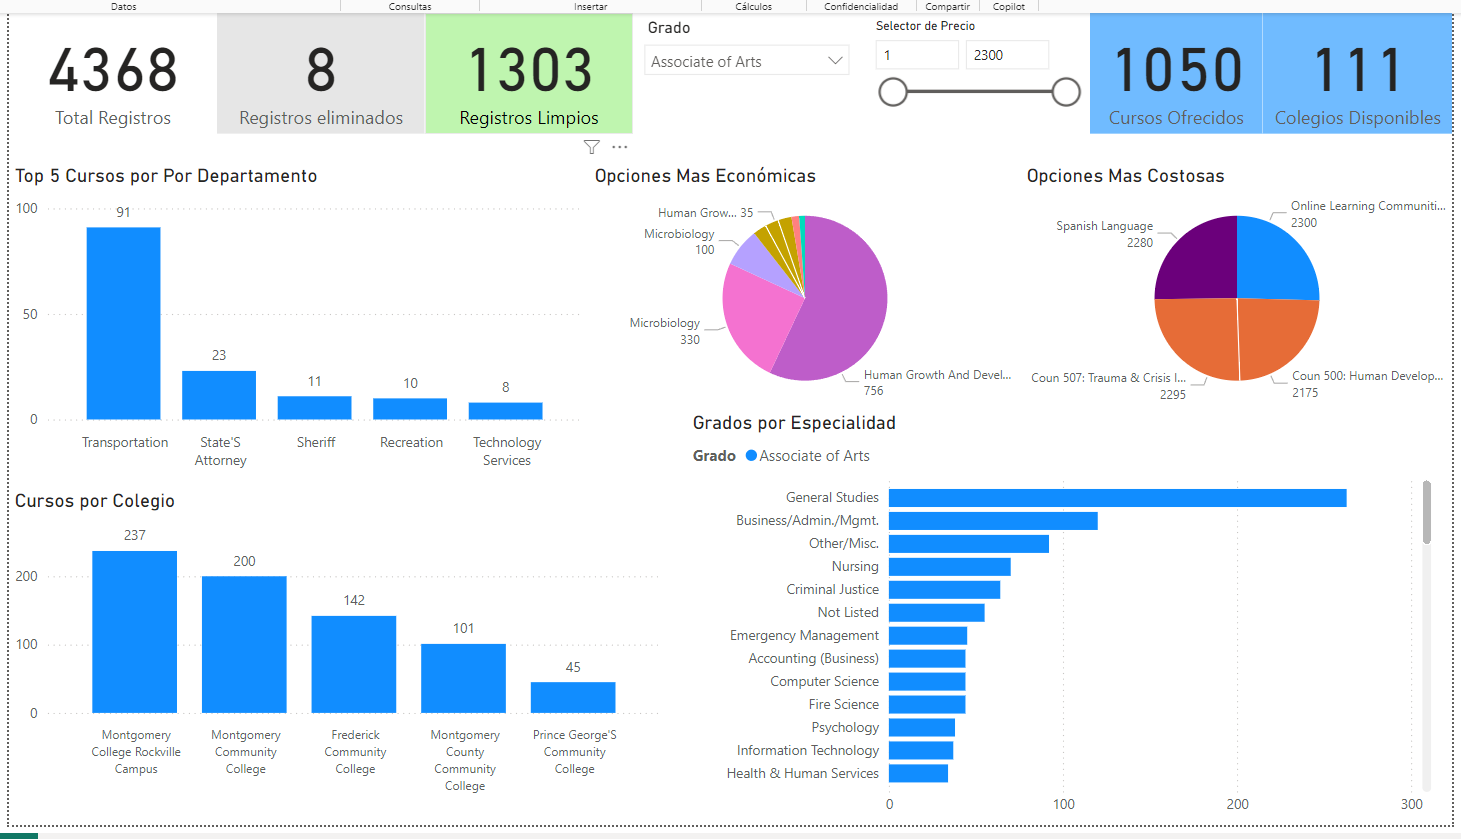

The dashboard page shown, as its layout file describes it:
{"tool":"powerbi","page":{"name":"Página 1","canvas":[1280,720],"ordinal":0},"visuals":[{"type":"card","fields":{"Values":["CountNonNull(LIMPIEZA.Grado)"]},"box":[368.9,0,184.4,107.3],"z":1},{"type":"card","fields":{"Values":["CountNonNull(INGESTA.Grado)"]},"box":[0,0,184.4,107.3],"z":2},{"type":"card","fields":{"Values":["CountNonNull(INGESTA.Curso_Nombre)"]},"box":[184.4,0,184.4,107.3],"z":3},{"type":"clusteredColumnChart","fields":{"Y":["CountNonNull(LIMPIEZA.Departamento)"],"Category":["LIMPIEZA.Departamento"]},"box":[0,133.9,514.3,277.5],"z":4},{"type":"pieChart","title":"Opciones Mas Económicas ","fields":{"Y":["Min(LIMPIEZA.Curso_Precio)"],"Category":["LIMPIEZA.Colegio_Nombre"],"Series":["LIMPIEZA.Curso_Nombre"]},"box":[514.3,133.9,383.1,219],"z":5},{"type":"columnChart","title":"Cursos por Colegio","fields":{"Y":["CountNonNull(LIMPIEZA.Curso_Nombre)"],"Category":["LIMPIEZA.Colegio_Nombre"]},"box":[0,422.1,584.3,277.5],"z":6},{"type":"barChart","title":"Grados por Especialidad","fields":{"Category":["LIMPIEZA.Especialidad"],"Y":["CountNonNull(LIMPIEZA.Grado)"],"Series":["LIMPIEZA.Grado"]},"box":[601.2,352.9,665,367.1],"z":7},{"type":"card","fields":{"Values":["Count(LIMPIEZA.Curso_Nombre)"]},"box":[958.5,0,153.4,107.3],"z":8},{"type":"card","fields":{"Values":["Count(LIMPIEZA.Colegio_Nombre)"]},"box":[1111.9,0,168.5,107.3],"z":9},{"type":"slicer","fields":{"Values":["LIMPIEZA.Curso_Precio"]},"box":[755.5,0,203.1,110],"z":10},{"type":"slicer","fields":{"Values":["LIMPIEZA.Grado"]},"box":[553.3,0,202.2,107.3],"z":11},{"type":"pieChart","title":"Opciones Mas Costosas","fields":{"Y":["Max(LIMPIEZA.Curso_Precio)"],"Category":["LIMPIEZA.Colegio_Nombre"],"Series":["LIMPIEZA.Curso_Nombre"]},"box":[897.3,133.9,383.1,219],"z":12}]}

Visuals, with their boxes on the page's 1280x720 design canvas (x1, y1, x2, y2). These are canvas units, not pixel positions in the 1461x839 screenshot, which may show the page scaled, cropped or inside an application window:
card - CountNonNull(LIMPIEZA.Grado): x1=369, y1=0, x2=553, y2=107
card - CountNonNull(INGESTA.Grado): x1=0, y1=0, x2=184, y2=107
card - CountNonNull(INGESTA.Curso_Nombre): x1=184, y1=0, x2=369, y2=107
clusteredColumnChart - CountNonNull(LIMPIEZA.Departamento) x LIMPIEZA.Departamento: x1=0, y1=134, x2=514, y2=411
"Opciones Mas Económicas " pieChart: x1=514, y1=134, x2=897, y2=353
"Cursos por Colegio" columnChart: x1=0, y1=422, x2=584, y2=700
"Grados por Especialidad" barChart: x1=601, y1=353, x2=1266, y2=720
card - Count(LIMPIEZA.Curso_Nombre): x1=958, y1=0, x2=1112, y2=107
card - Count(LIMPIEZA.Colegio_Nombre): x1=1112, y1=0, x2=1280, y2=107
slicer - LIMPIEZA.Curso_Precio: x1=756, y1=0, x2=959, y2=110
slicer - LIMPIEZA.Grado: x1=553, y1=0, x2=756, y2=107
"Opciones Mas Costosas" pieChart: x1=897, y1=134, x2=1280, y2=353
